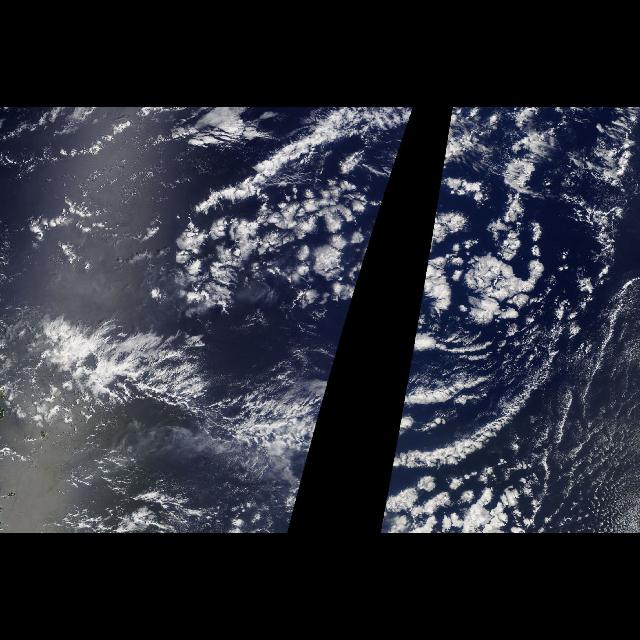Fish: (11, 312, 348, 488), (388, 312, 556, 476)
Flower: (168, 110, 414, 358), (411, 110, 571, 358)
